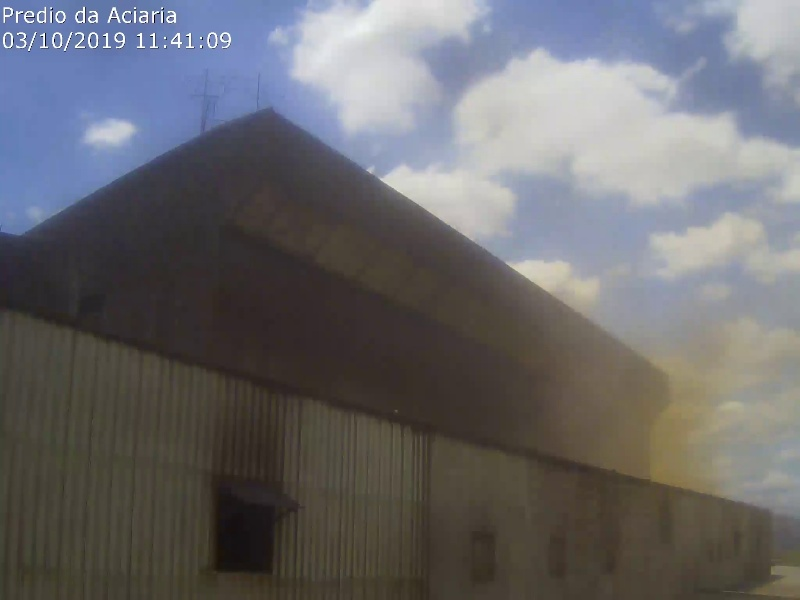bom: (3, 3, 312, 304), (302, 1, 537, 389)
pessimo: (539, 263, 771, 502)
